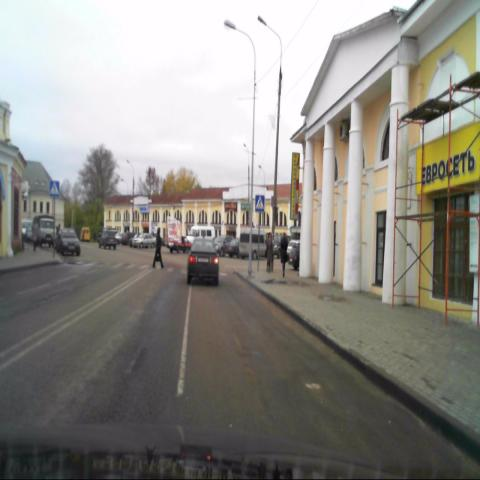5_19_1: (48, 180, 59, 198), (255, 194, 264, 212)
